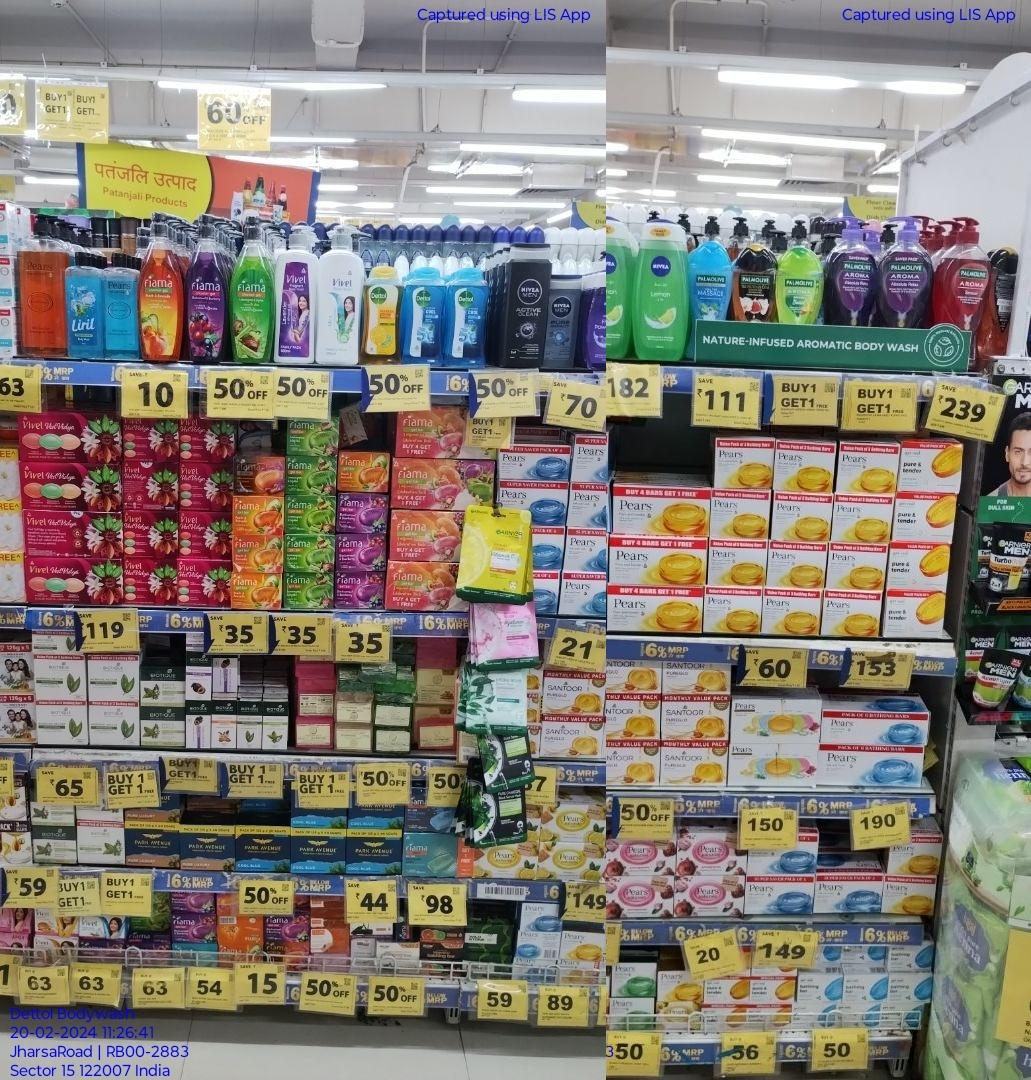Dettol_Bodywash_Cool: (449, 265, 490, 372), (402, 263, 445, 363)
Dettol_Bodywash_Refresh: (361, 259, 400, 365)
Liril_Cooling_Mint_Body_Wash_250ML: (64, 251, 104, 358)
Nivea_Shower_Gel_Lemon_and_Oil_250ML: (629, 222, 689, 361)
Palmolive_Aroma_Moments_Feel_The_Massage_Shower_Gel_250ML: (690, 240, 731, 321)
Palmolive_Luminous_Oils_With_White_Orchid_Shower_Gel_250ML: (733, 243, 777, 322)
Pears_Pure_Glycerin_and_Mint_Extracts_Body_Wash_250ML: (107, 252, 140, 358)
